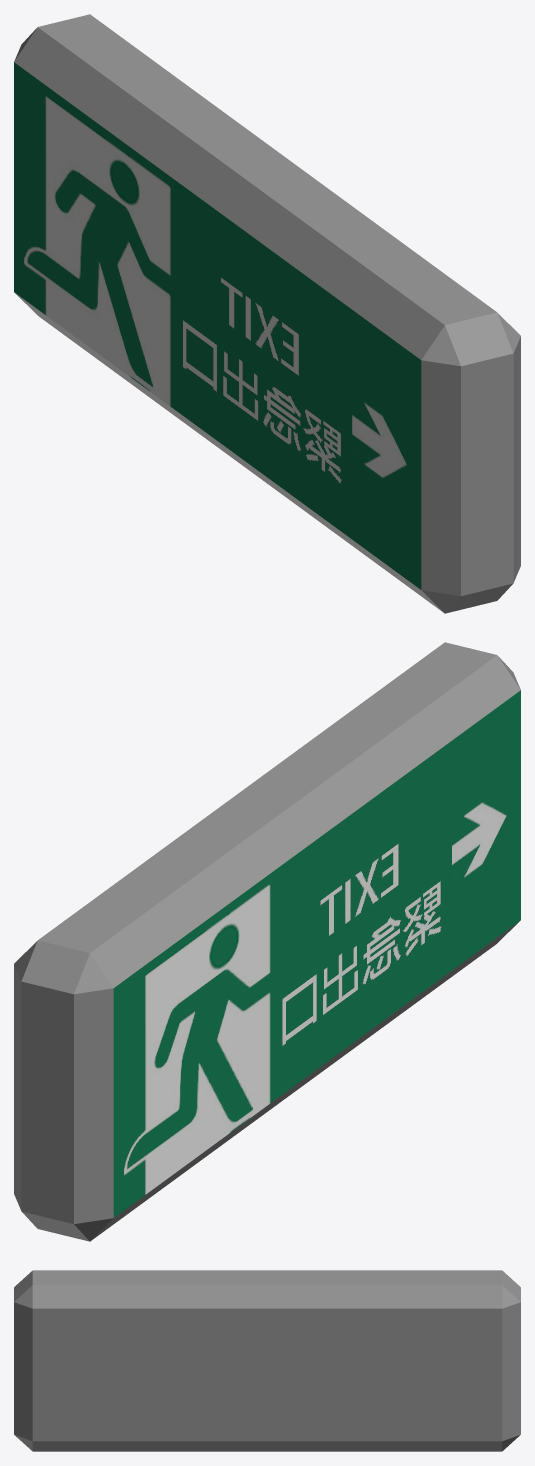
The model's file is exit_sign.fbx.
The picture shows the model from 3 angles, top to bottom: view 1: azimuth 30°, elevation 25°; view 2: azimuth 150°, elevation 25°; view 3: azimuth 270°, elevation 25°; orthographic projection. The views are drawn at different scales.
Visible parts, largest first — view 1: exit_sogn001; view 2: exit_sogn001; view 3: exit_sogn001.
Boxes of the visible parts, box(x1,y1,x2,y2) form: exit_sogn001: box(14, 14, 520, 613); exit_sogn001: box(14, 642, 520, 1241); exit_sogn001: box(14, 1270, 520, 1451).
Bounding box in the file's own units: 30.99 × 85.71 × 237.
